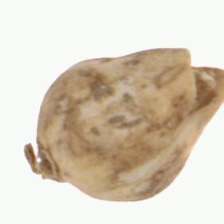L1: (179, 44, 224, 117), (23, 132, 70, 184)
L2: (24, 47, 223, 202)
